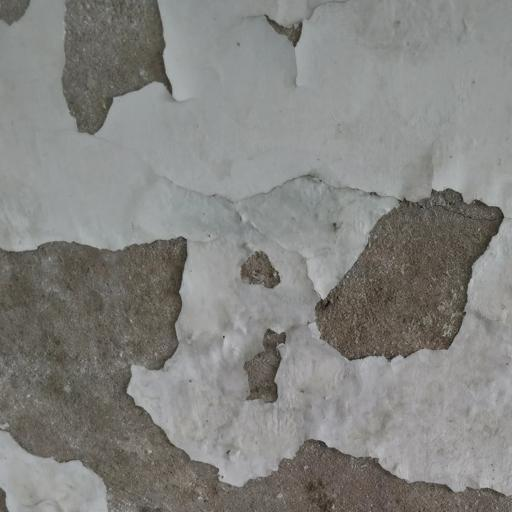peeling: (0, 224, 207, 512), (308, 166, 512, 369), (0, 0, 212, 171), (163, 414, 512, 512), (213, 302, 316, 408), (224, 234, 307, 282)
